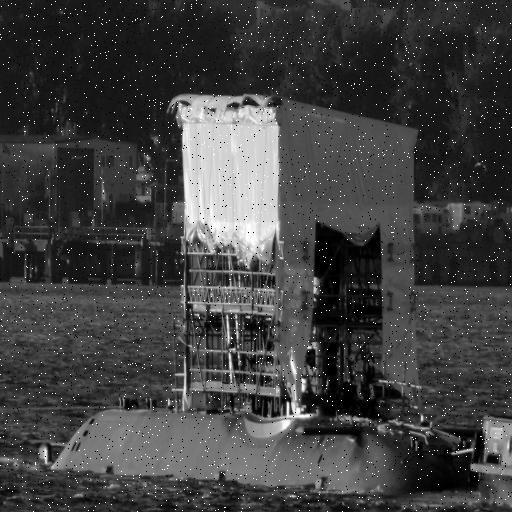submarine: (45, 411, 434, 474)
